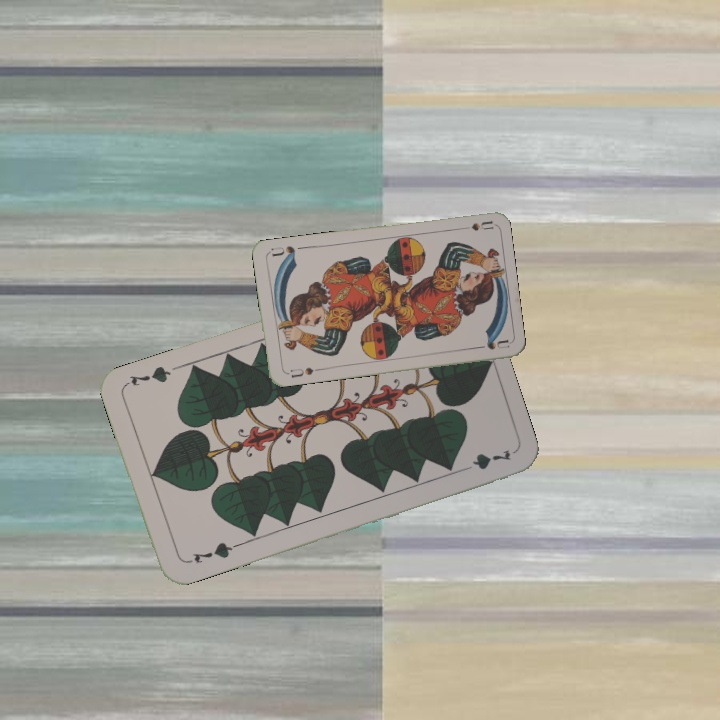G7: (189, 538, 239, 566)
SU: (282, 363, 322, 380), (454, 217, 495, 233)
